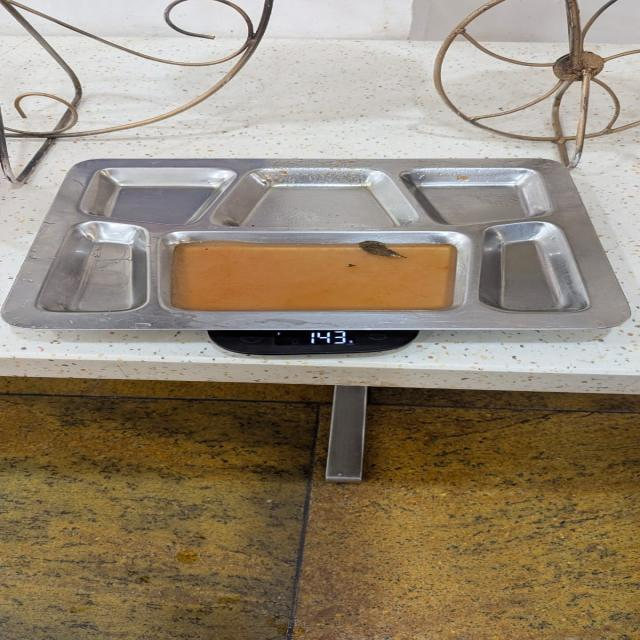Rasam: (166, 236, 462, 312)
